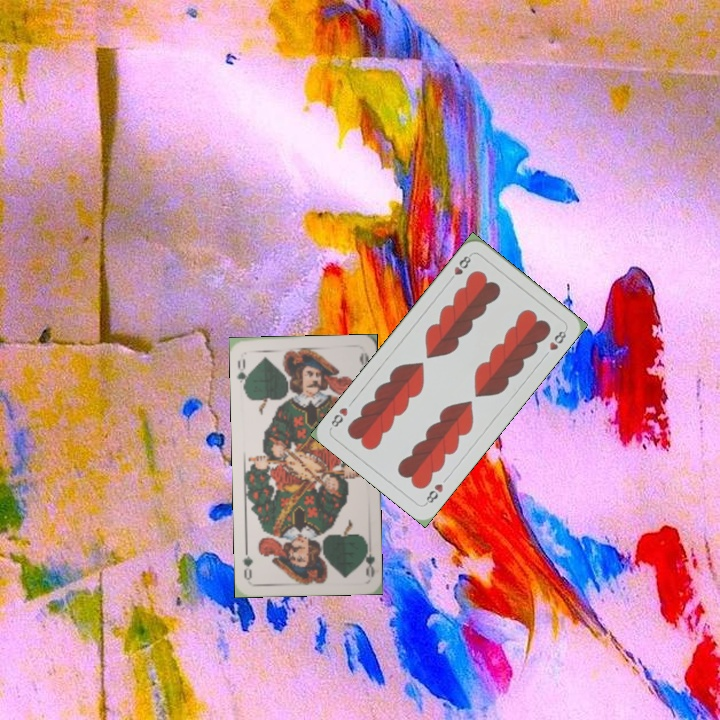GO: (358, 538, 378, 578), (233, 354, 252, 392)
H8: (445, 250, 474, 285), (421, 479, 446, 507)
